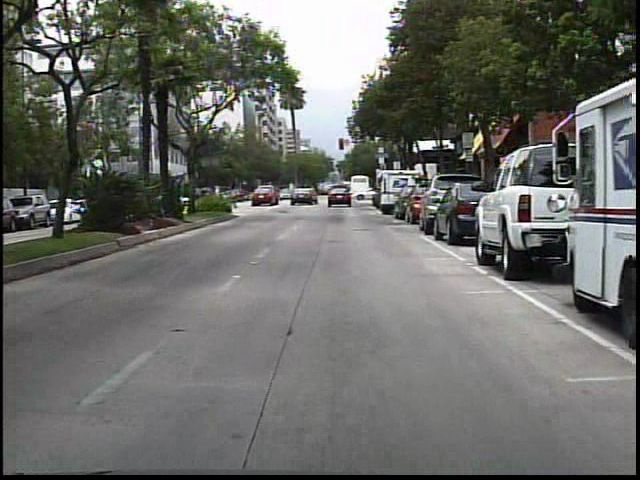person: (333, 181, 349, 203), (307, 184, 320, 205)
